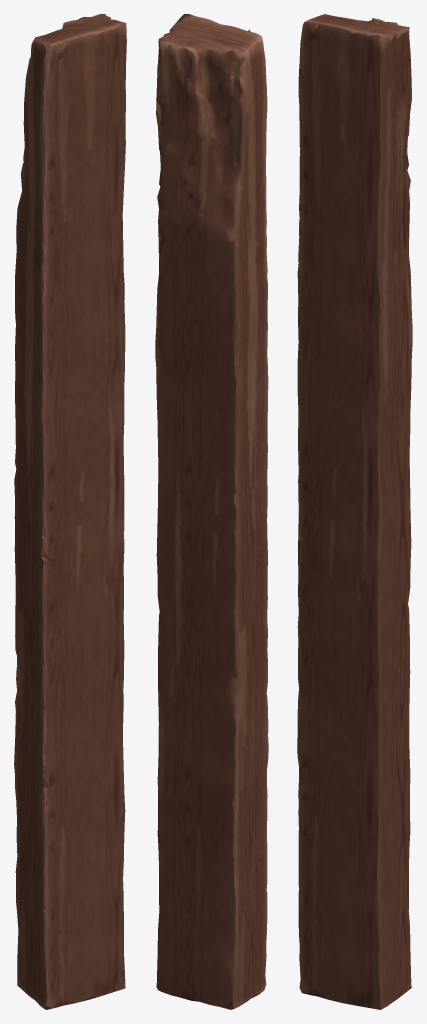
The model's file is SM_Beams_03.fbx.
The picture shows the model from 3 angles, left to right: view 1: azimuth 30°, elevation 25°; view 2: azimuth 150°, elevation 25°; view 3: azimuth 330°, elevation 25°; orthographic projection.
Visible parts, largest first — view 1: SM_Beams_03_LOD0; view 2: SM_Beams_03_LOD0; view 3: SM_Beams_03_LOD0.
Part boxes in pixels (bbox=[...]): SM_Beams_03_LOD0: bbox=[14, 14, 126, 1009]; SM_Beams_03_LOD0: bbox=[155, 14, 268, 1009]; SM_Beams_03_LOD0: bbox=[297, 14, 412, 1009].
Size of the model in its own units: 27.38 by 18.29 by 291.
1 material, 1 textured.
